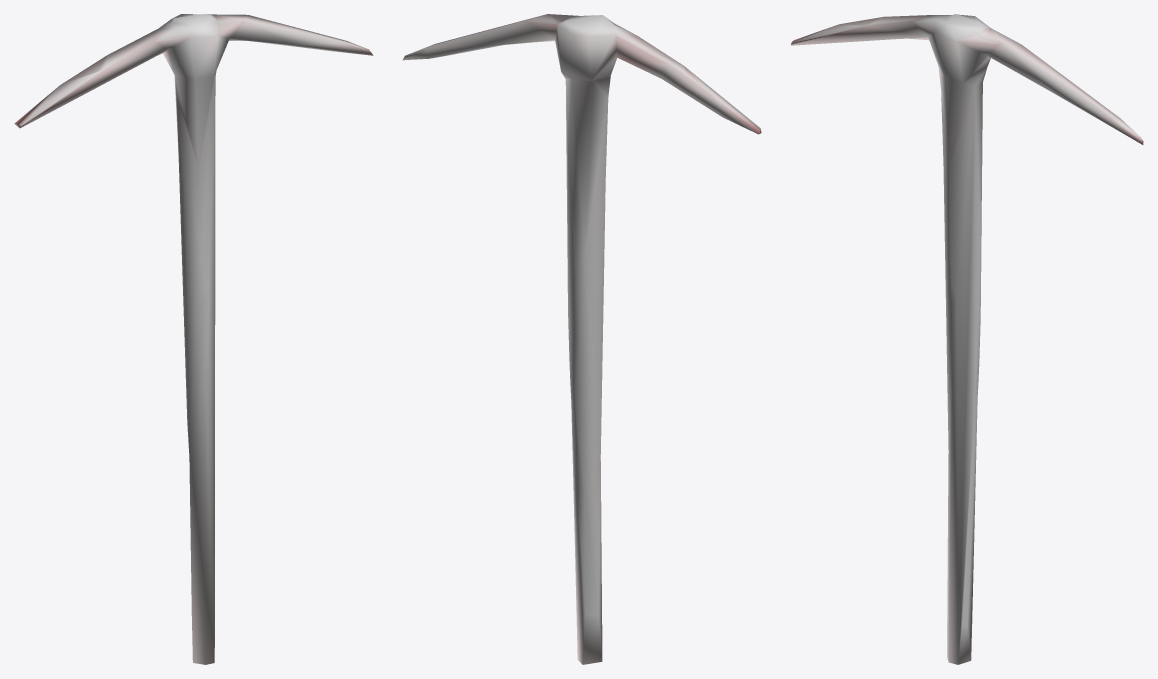
The model's file is pickaxe.gltf.
The picture shows the model from 3 angles, left to right: view 1: azimuth 30°, elevation 25°; view 2: azimuth 150°, elevation 25°; view 3: azimuth 330°, elevation 25°; orthographic projection.
Visible parts, largest first — view 1: ucylebxfa_LOD0_TIER3_000; view 2: ucylebxfa_LOD0_TIER3_000; view 3: ucylebxfa_LOD0_TIER3_000.
Boxes of the visible parts, x1,y1,x2,y2 form: ucylebxfa_LOD0_TIER3_000: (14,14,373,664); ucylebxfa_LOD0_TIER3_000: (402,14,761,664); ucylebxfa_LOD0_TIER3_000: (790,14,1143,664).
Bounding box in the file's own units: 0.5051 × 0.8675 × 0.067.
